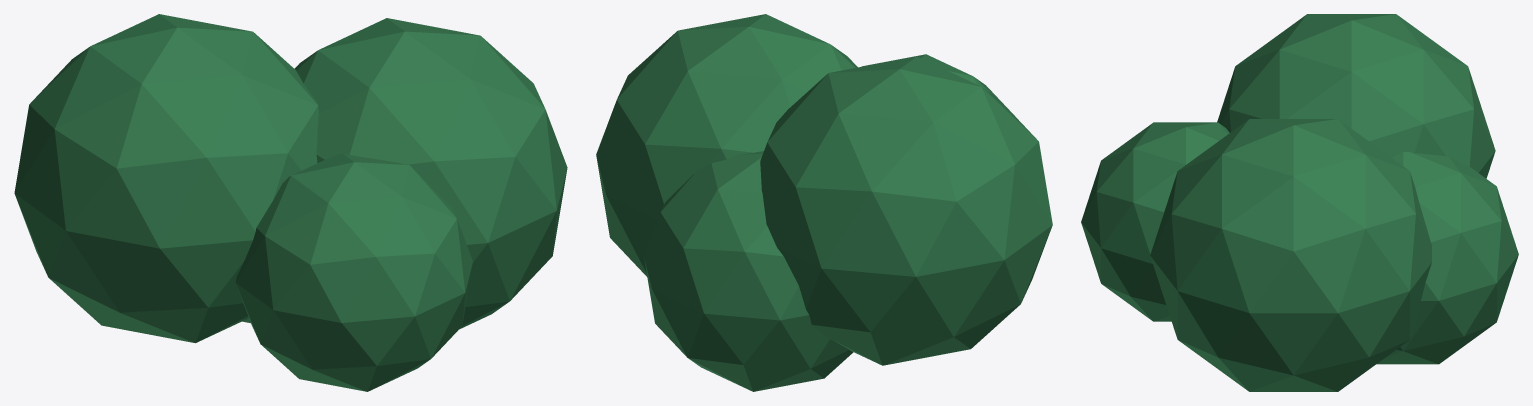
The model's file is bush.glb.
The picture shows the model from 3 angles, left to right: view 1: azimuth 30°, elevation 25°; view 2: azimuth 150°, elevation 25°; view 3: azimuth 270°, elevation 25°; orthographic projection. The views are drawn at different scales.
Parts seen in each view (by area): view 1: Icosphere; view 2: Icosphere; view 3: Icosphere.
Part boxes in pixels (x1,y1,x2,y2): Icosphere: (14,14,567,391); Icosphere: (596,14,1052,391); Icosphere: (1081,14,1518,391).
Size of the model in its own units: 4.65 by 3.21 by 4.36.
1 material, 1 textured.
